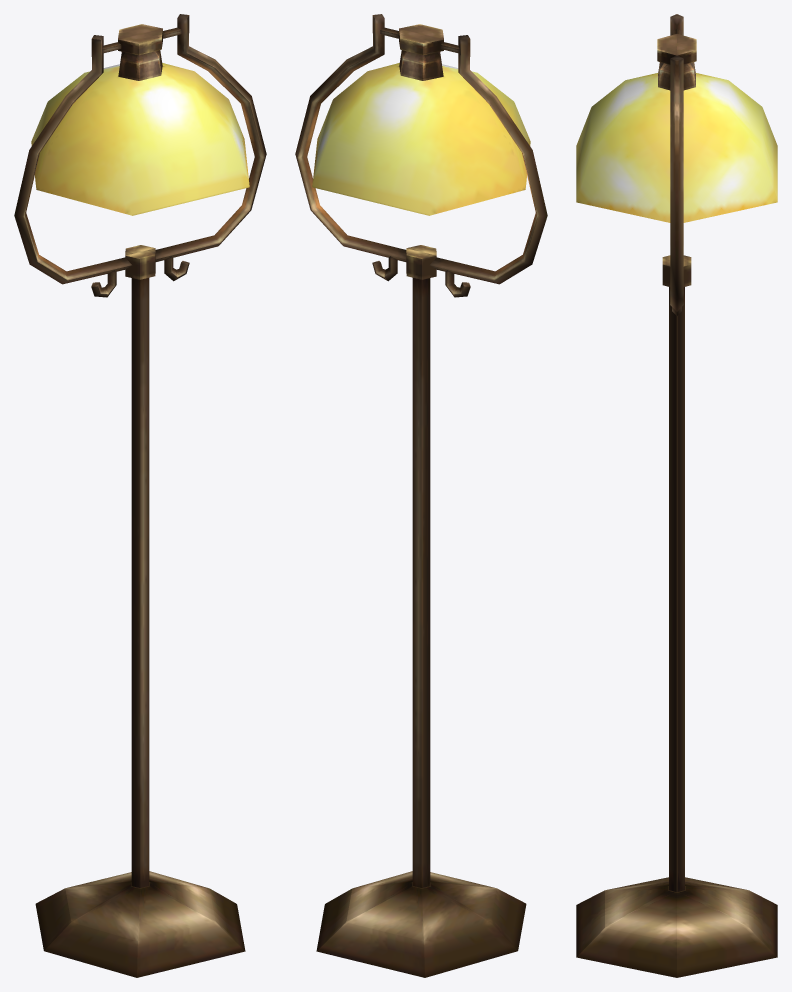
File: furni_0200701.FBX
The picture shows the model from 3 angles, left to right: view 1: azimuth 30°, elevation 25°; view 2: azimuth 150°, elevation 25°; view 3: azimuth 270°, elevation 25°; orthographic projection.
Visible parts, largest first — view 1: furni_0200701; view 2: furni_0200701; view 3: furni_0200701.
Part boxes in pixels (left/top/right/bottom): furni_0200701: left=14, top=14, right=266, bottom=977; furni_0200701: left=295, top=14, right=547, bottom=977; furni_0200701: left=576, top=14, right=777, bottom=977.
Size of the model in its own units: 63.59 by 217 by 44.26.
Materials: 1 (1 with a texture image).
